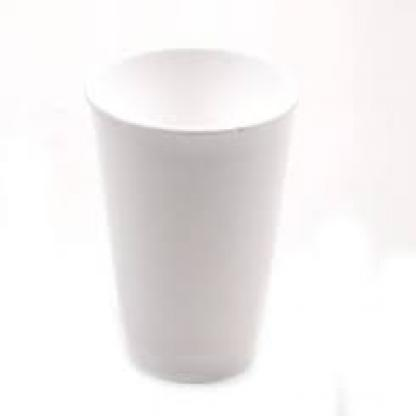paper: (83, 46, 292, 382)
